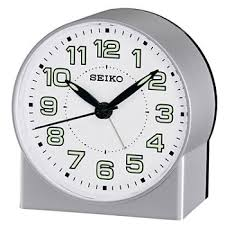alarm_clock: (11, 7, 212, 220)
